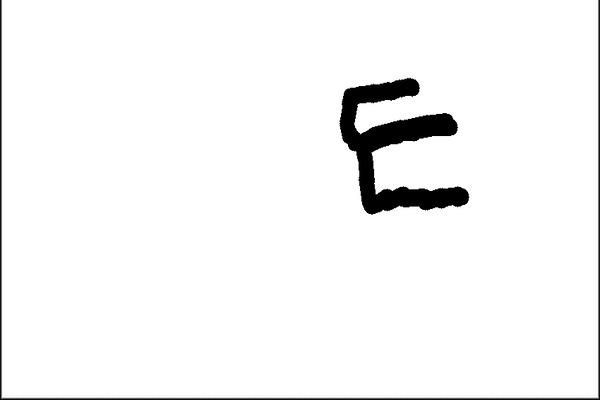E: (332, 72, 472, 216)
